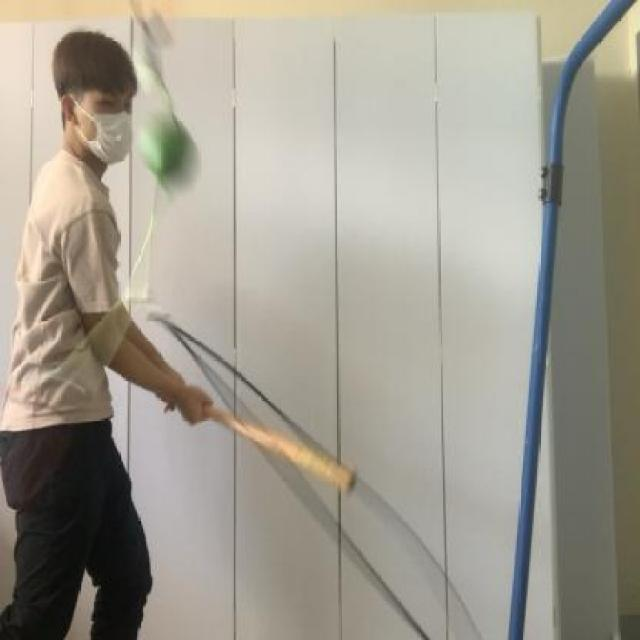baseball: (126, 94, 205, 208)
